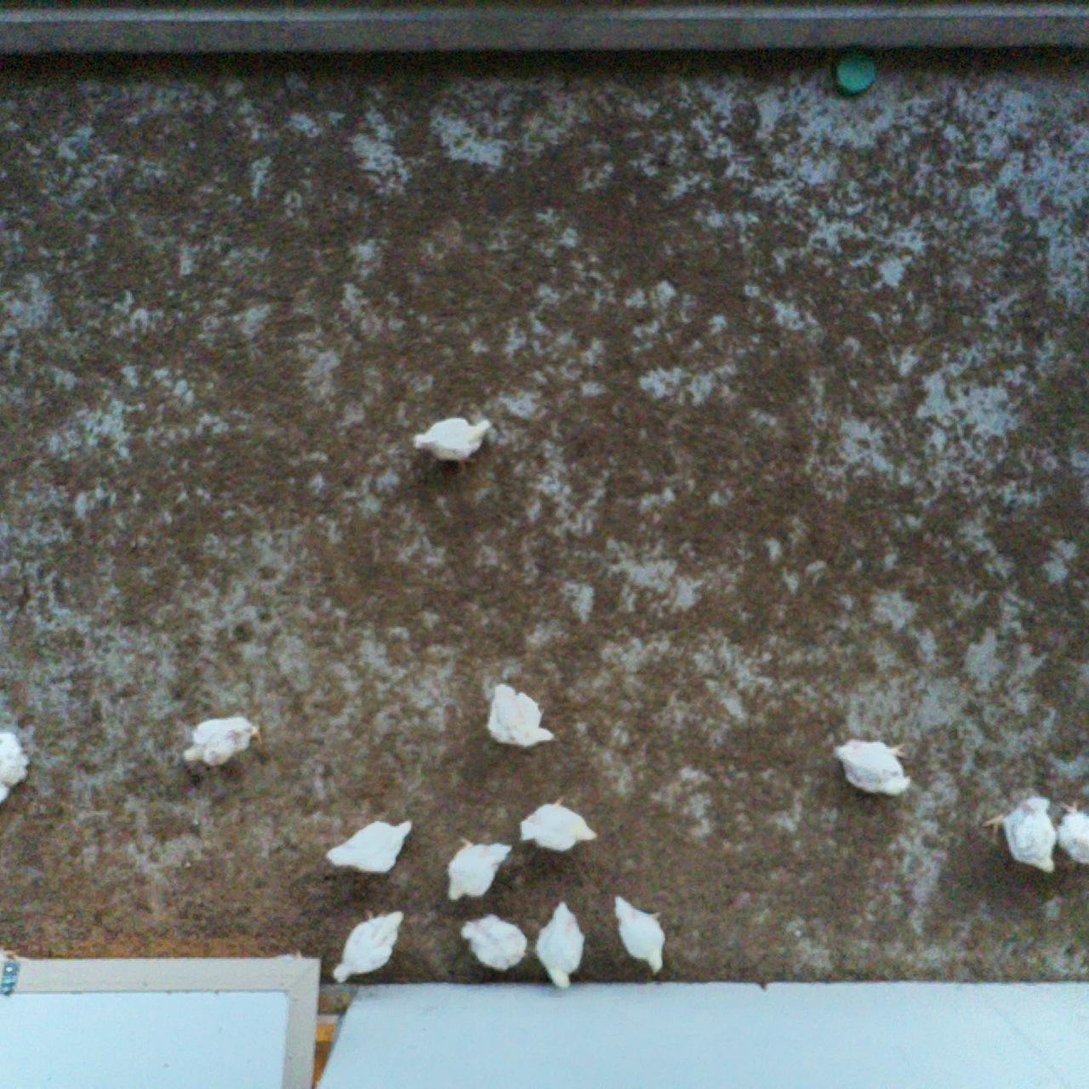chicken: (328, 902, 411, 989), (979, 793, 1060, 875), (324, 815, 416, 883), (408, 411, 496, 479), (826, 737, 918, 802), (513, 790, 599, 858), (485, 677, 558, 753), (176, 712, 264, 774), (611, 887, 671, 977), (534, 897, 590, 992), (444, 831, 516, 904), (459, 912, 533, 978), (0, 723, 34, 814), (1056, 795, 1089, 866)
